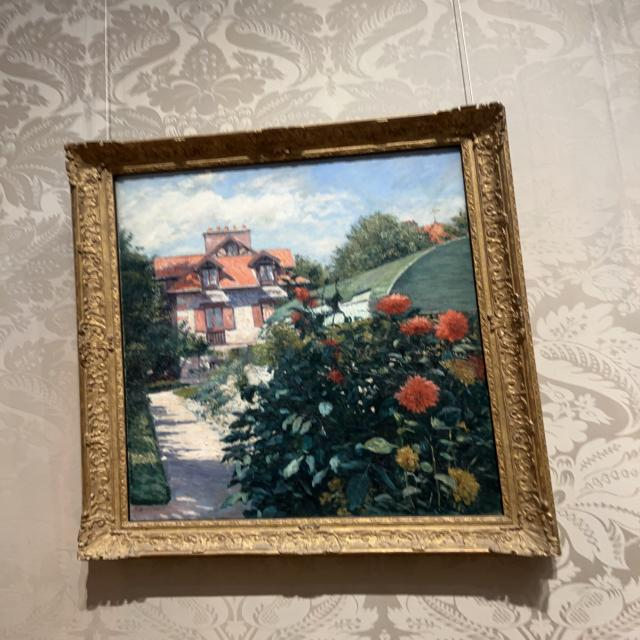summer: (119, 154, 499, 516)
